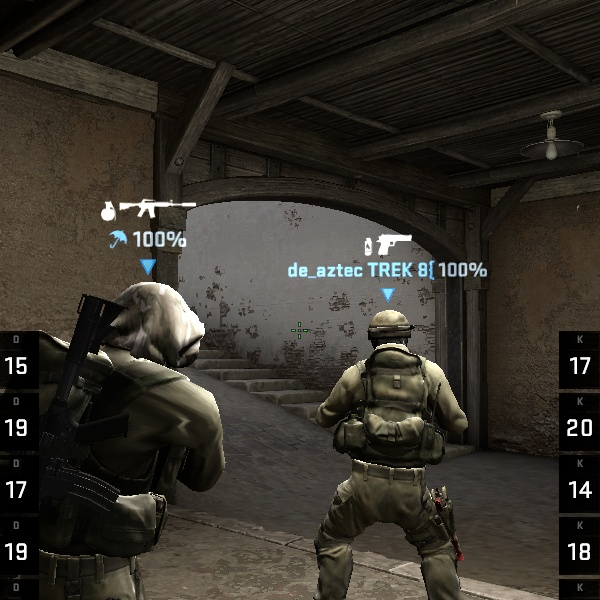ct_body: (11, 276, 263, 600), (298, 302, 498, 598)
ct_head: (75, 273, 210, 390), (357, 305, 420, 368)
